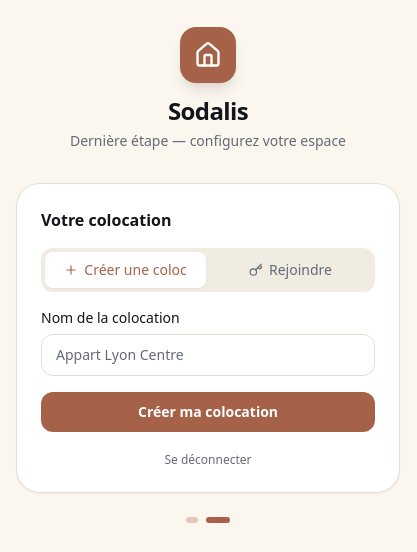
Test case: Onboarding coloc step › shows the invite code after createColoc even once the user has a coloc_id
The image size is (417, 552).
Type "Maison" into the field labelled "Nom de la colocation".
click(208, 355); type("Maison")  # box [41, 334, 375, 376]
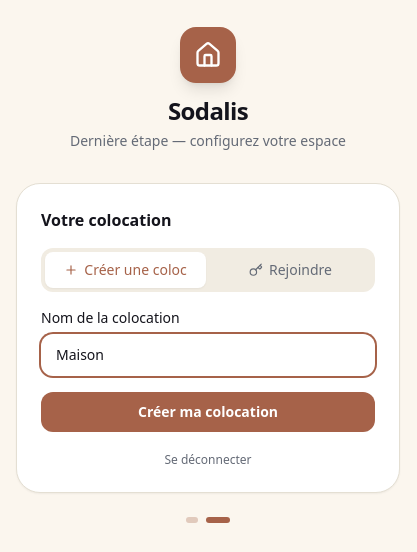
Click the button "Créer ma colocation".
click(208, 412)  # box [41, 392, 375, 432]
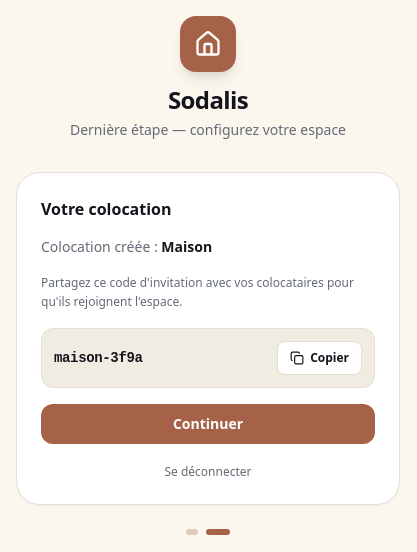
Result: the text "maison-3f9a" is shown at [54, 350, 143, 366]
Result: the button "Continuer" is shown at [41, 404, 375, 444]
